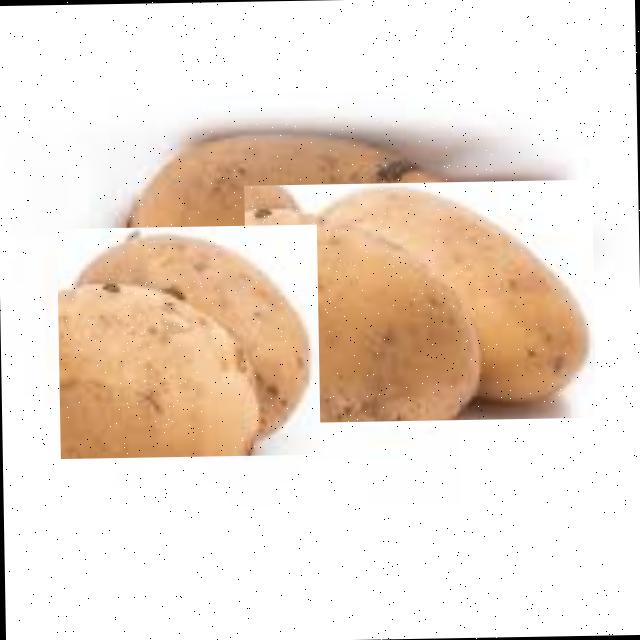Potato: (109, 120, 488, 407), (244, 180, 596, 423), (57, 224, 320, 459)
